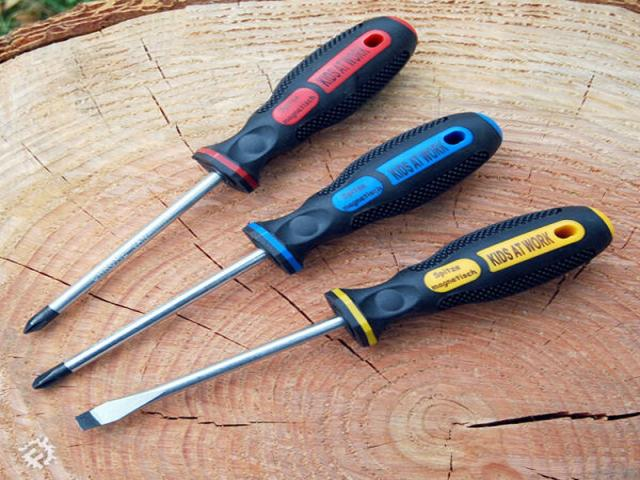Screwdriver: (32, 113, 502, 388), (24, 17, 418, 333), (76, 206, 614, 429)
